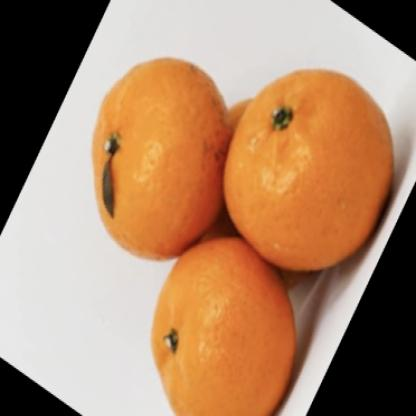fresh: (90, 56, 397, 416)
